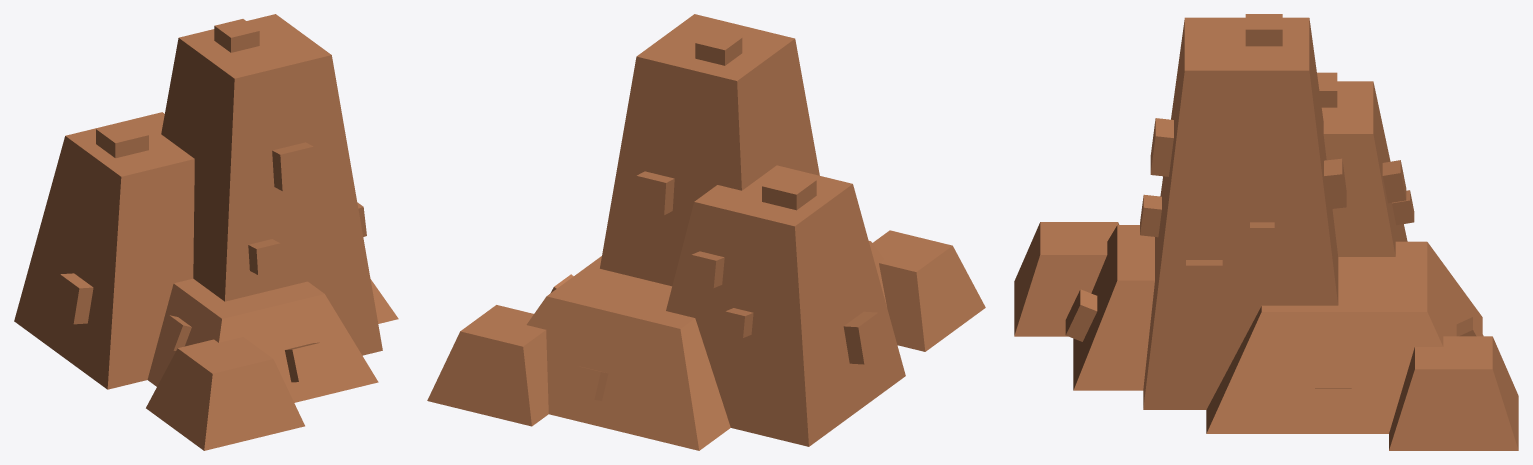
Rendered from rockstallore.glb.
3 renders of one model, left to right at view 1: azimuth 30°, elevation 25°; view 2: azimuth 150°, elevation 25°; view 3: azimuth 270°, elevation 25°, orthographic. The views are drawn at different scales.
Visible parts, largest first — view 1: rocksTallOre; view 2: rocksTallOre; view 3: rocksTallOre.
Part boxes in pixels (x1=…): rocksTallOre: x1=14, y1=14, x2=398, y2=450; rocksTallOre: x1=427, y1=14, x2=985, y2=450; rocksTallOre: x1=1014, y1=14, x2=1518, y2=450.
Size of the model in its own units: 6.86 by 6.08 by 8.21.
